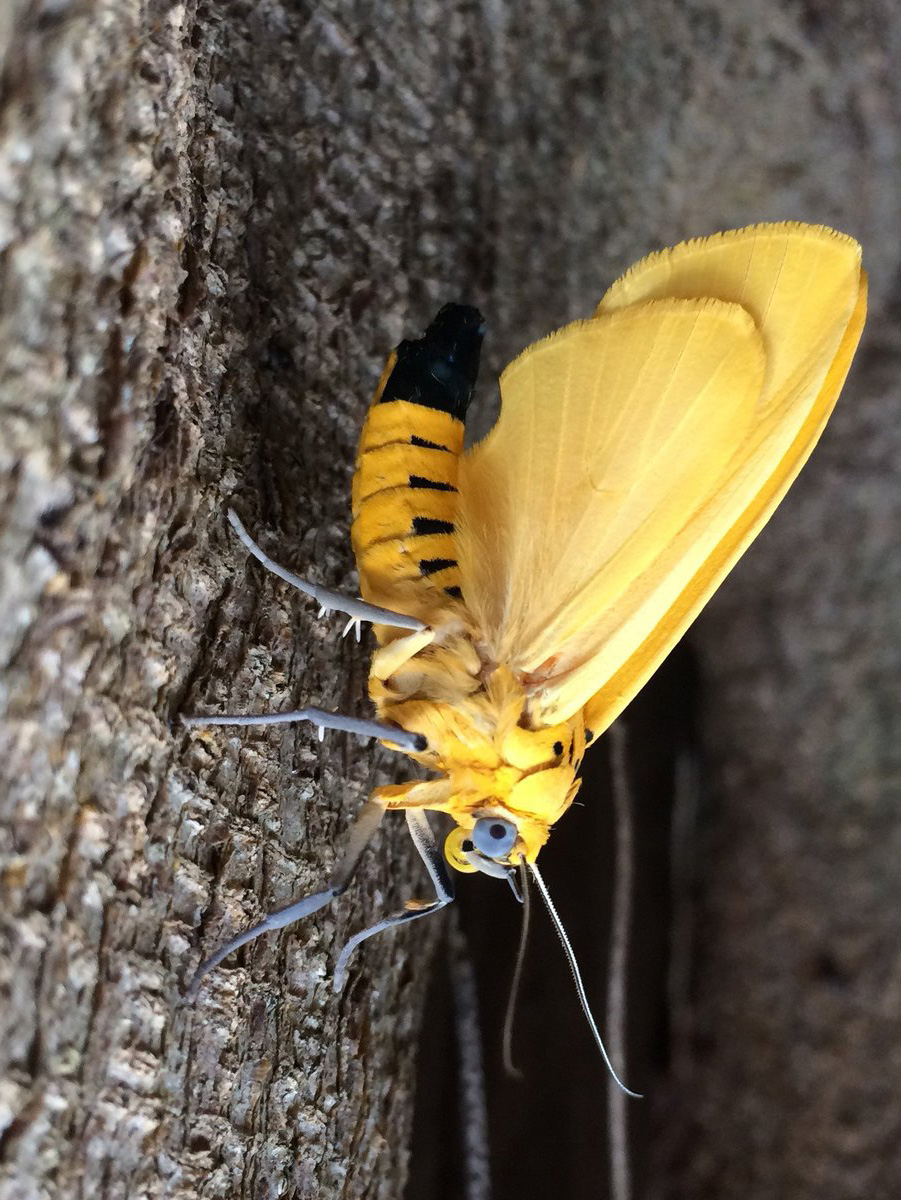Agape chloropyga: (173, 212, 873, 1096)
moth: (175, 214, 875, 1098)
